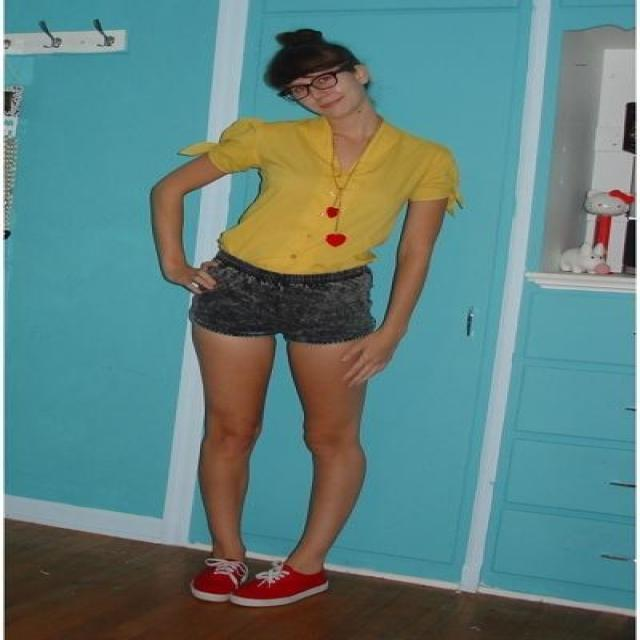shirt: (182, 120, 460, 274)
shoe: (192, 543, 325, 605)
shorts: (189, 243, 390, 344)
